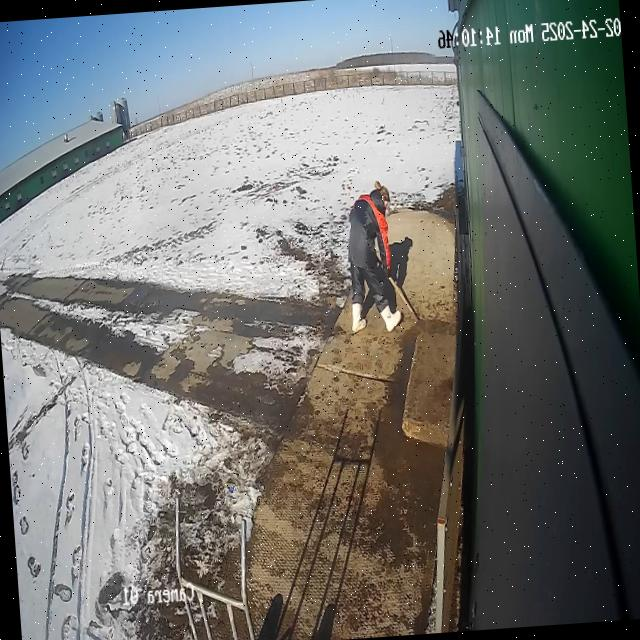Red uniform: (339, 177, 406, 337)
